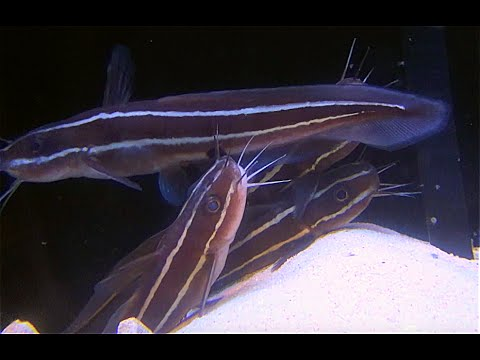gonzui: (6, 70, 450, 180)
